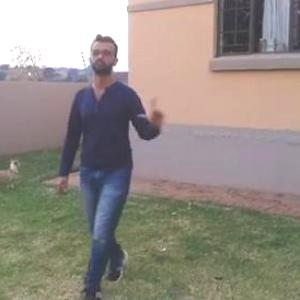land_hand: (138, 92, 169, 134)
